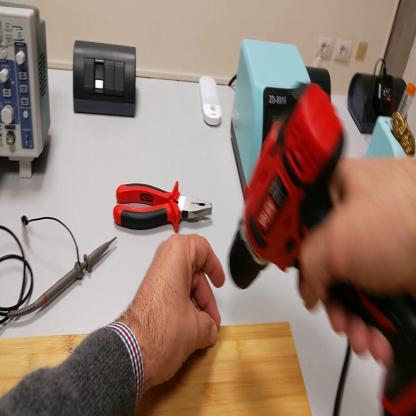electric screwdriver: (223, 80, 416, 415)
hand: (296, 150, 415, 361), (132, 232, 227, 389)
oscilloscope: (1, 4, 53, 180)
oscilloscope probe tip: (9, 237, 118, 320)
pliers: (113, 179, 215, 231)
socket: (347, 70, 399, 136), (308, 69, 334, 100)
welder base: (365, 82, 416, 157)
welder station: (229, 43, 312, 202)
working area: (2, 319, 312, 413)
